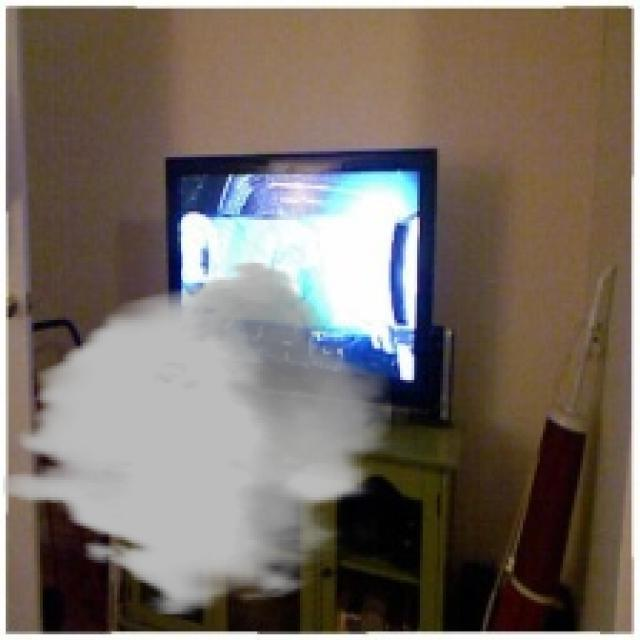Smoke: (2, 260, 392, 617)
